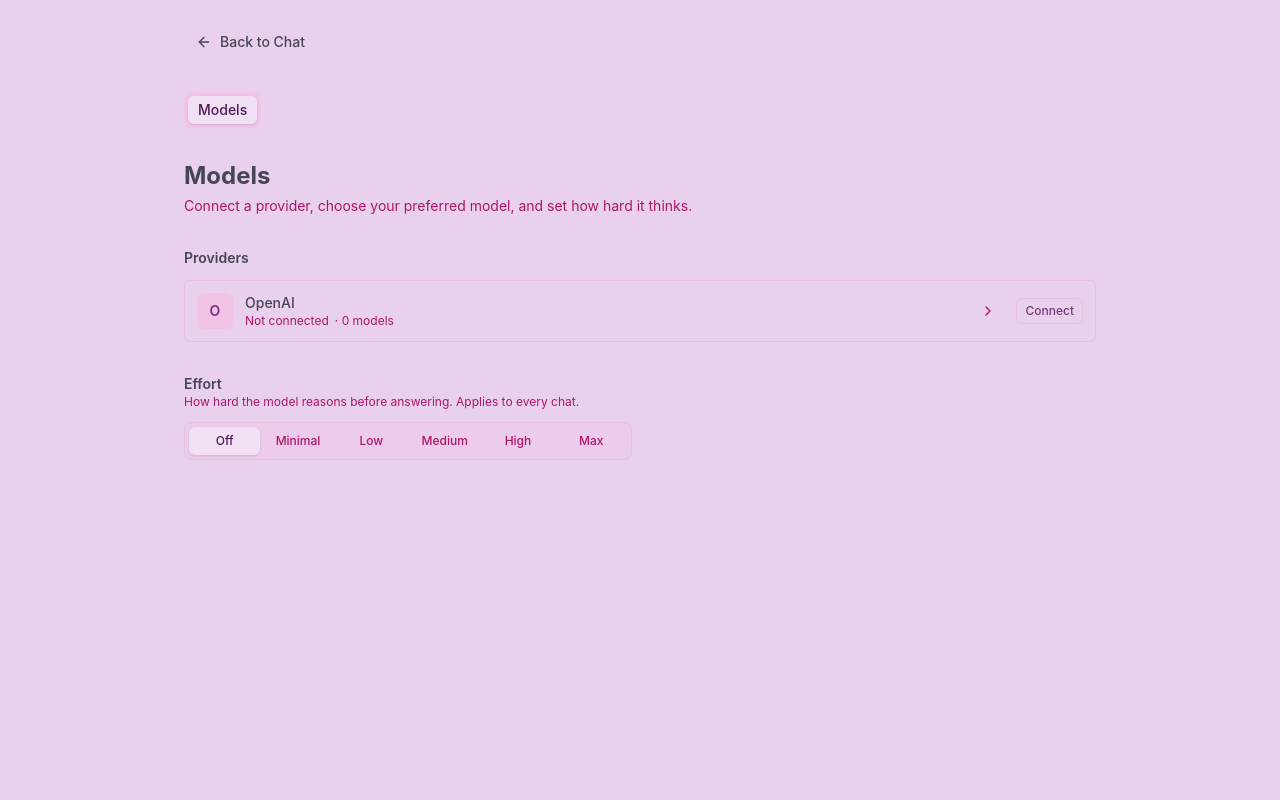
Scenario: Models settings — failed Connect surfaces Core's reason › keeps the generic couldn't-start copy for a non-login-failed error
Click the button "Connect": x=1050, y=311 [1016,298,1083,324]
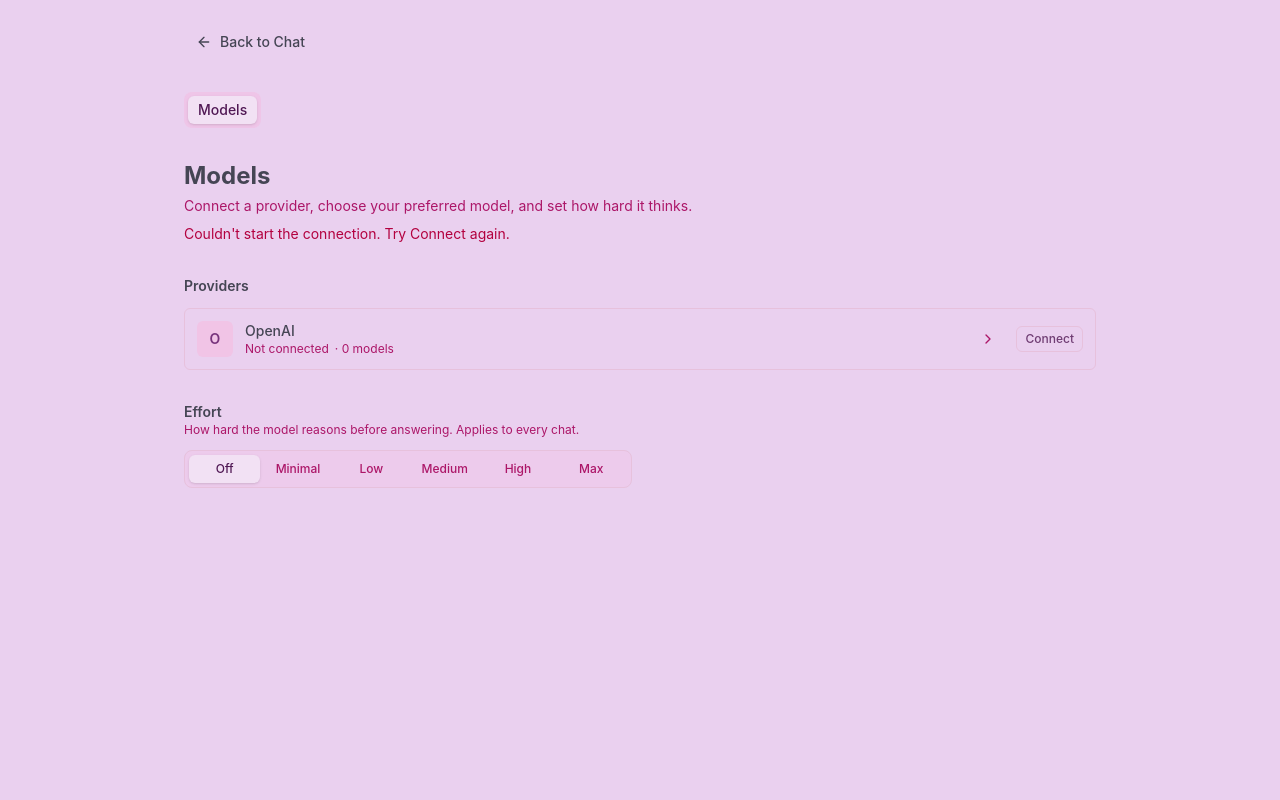
Now the message reads "Couldn't start the connection. Try Connect again.", box [184,225,510,242]
